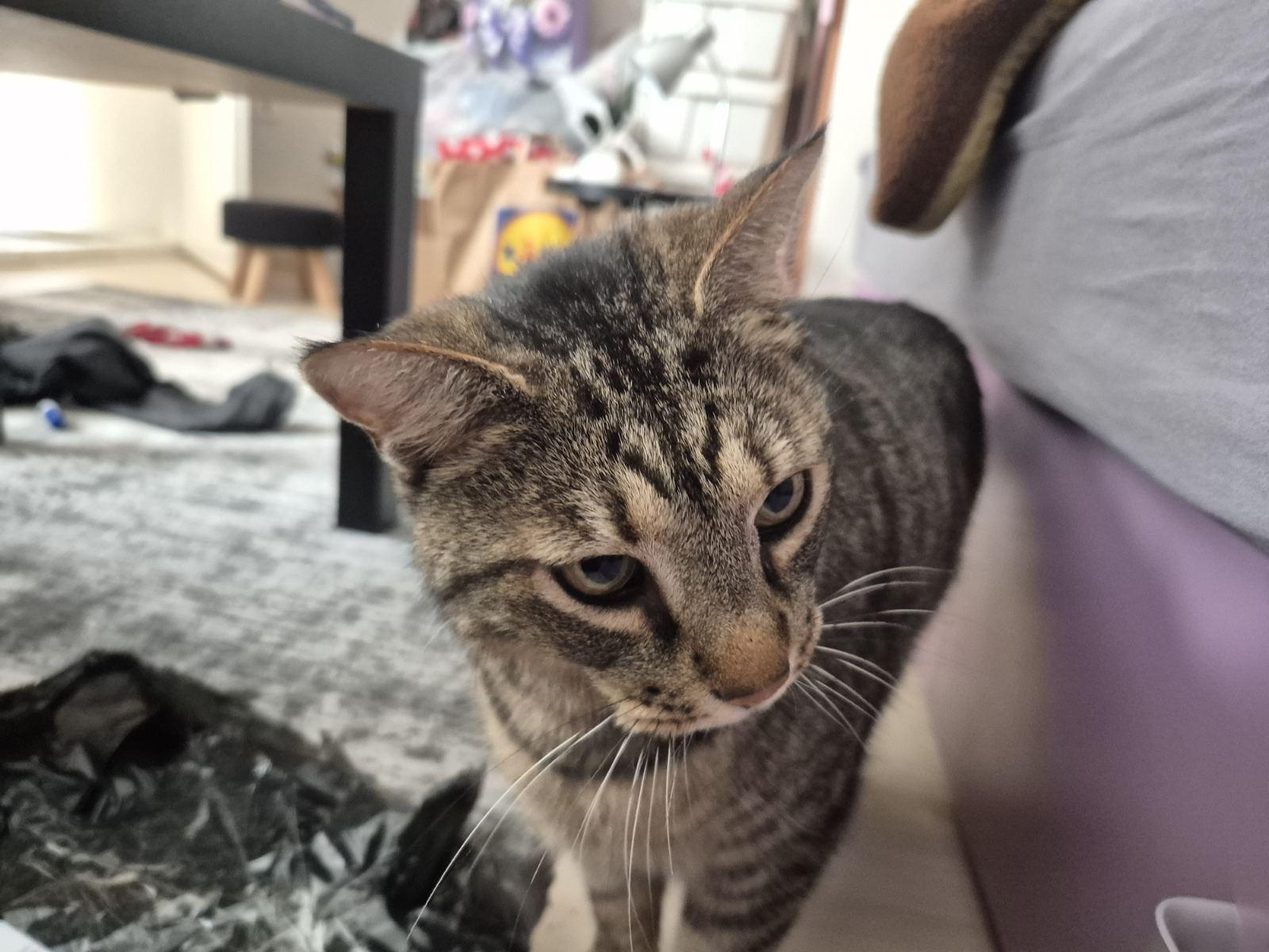macka: (301, 120, 989, 952)
